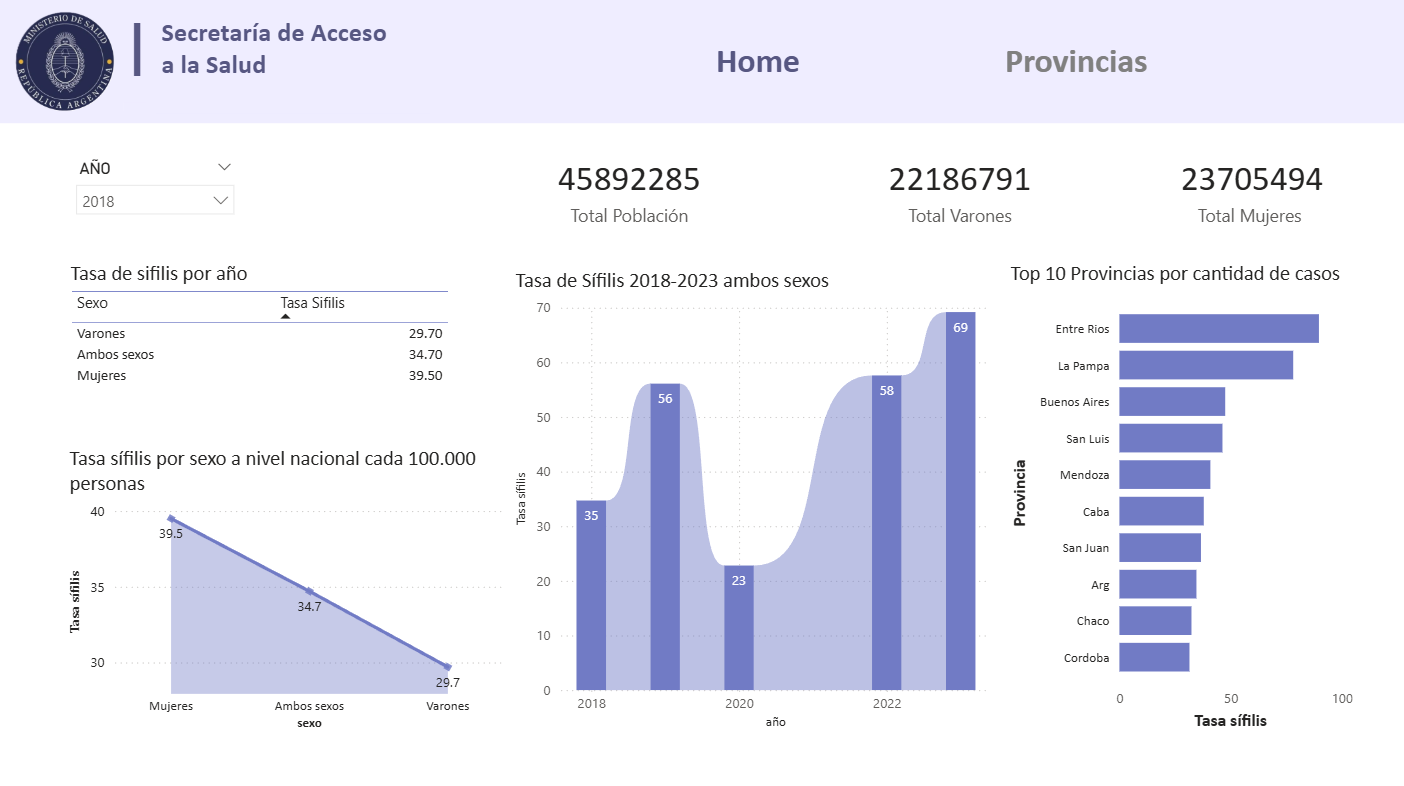

The page's visual inventory and layout, read from the dashboard file:
{"tool":"powerbi","page":{"name":"Home","canvas":[1280,720],"ordinal":1},"visuals":[{"type":"textbox","box":[-2.1,0.3,1280,112.2],"z":0},{"type":"image","box":[7.8,8.9,105.6,92.2],"z":1000},{"type":"textbox","box":[113.3,0,21.1,93.3],"z":2000},{"type":"textbox","box":[143.6,9.1,249.1,93.6],"z":3000},{"type":"tableEx","title":"Tasa de sifilis por año en Argentina","fields":{"Values":["df_consolidado_Sifilis.sexo","df_consolidado_Sifilis.jurisdiccion_tasa_sifilis"]},"box":[60.7,236,363.3,168.4],"z":4000},{"type":"card","fields":{"Values":["Cant_totalPoblacion.Todo_el_pais"]},"box":[462,120.6,224.3,101.1],"z":5000},{"type":"card","fields":{"Values":["Cant_totalPoblacion.Total Varones"]},"box":[763.4,120.6,221.7,101.1],"z":6000},{"type":"card","fields":{"Values":["Cant_totalPoblacion.Total_Mujeres"]},"box":[1028,120.9,223.7,100.8],"z":7000},{"type":"stackedAreaChart","title":"Tasa sífilis  por sexo a nivel nacional cada 100.000 personas","fields":{"Y":["Max(df_consolidado_Sifilis.jurisdiccion_tasa_sifilis)"],"Category":["df_consolidado_Sifilis.sexo"]},"box":[60.3,404.3,404.3,264.2],"z":8000},{"type":"barChart","title":"Top 10 Provincias por tasa ambos sexos","fields":{"Category":["df_consolidado_Sifilis.jurisdiccion"],"Y":["Avg(df_consolidado_Sifilis.jurisdiccion_tasa_sifilis)"]},"box":[915.7,236,321.2,432.9],"z":10000},{"type":"ribbonChart","title":"Tasa de  Argentina Sífilis 2018-2023  ambos sexos","fields":{"Category":["Hoja1.anio"],"Y":["df_consolidado_Sifilis.Medida_tasa_sifilis"]},"box":[481.7,245.2,441.7,424.3],"z":11000},{"type":"slicer","fields":{"Values":["df_consolidado_Sifilis.anio"]},"box":[61.2,140.1,164,62.1],"z":12000},{"type":"actionButton","title":"Home","box":[652.8,36.4,99.8,40.5],"z":13000},{"type":"actionButton","title":"Provincias","box":[915.8,36.4,207.7,40.5],"z":14000}]}

Visuals, with their boxes in screenshot pixels (x1, y1, x2, y2), scaled from the page's 1280x720 canvas onto the 1404x786 screenshot:
textbox: BBox(0, 0, 1402, 123)
image: BBox(9, 10, 124, 110)
textbox: BBox(124, 0, 147, 102)
textbox: BBox(158, 10, 431, 112)
"Tasa de sifilis por año en Argentina" tableEx: BBox(67, 258, 465, 441)
card - Cant_totalPoblacion.Todo_el_pais: BBox(507, 132, 753, 242)
card - Cant_totalPoblacion.Total Varones: BBox(837, 132, 1081, 242)
card - Cant_totalPoblacion.Total_Mujeres: BBox(1128, 132, 1373, 242)
"Tasa sífilis  por sexo a nivel nacional cada 100.000 personas" stackedAreaChart: BBox(66, 441, 510, 730)
"Top 10 Provincias por tasa ambos sexos" barChart: BBox(1004, 258, 1357, 730)
"Tasa de  Argentina Sífilis 2018-2023  ambos sexos" ribbonChart: BBox(528, 268, 1013, 731)
slicer - df_consolidado_Sifilis.anio: BBox(67, 153, 247, 221)
"Home" actionButton: BBox(716, 40, 826, 84)
"Provincias" actionButton: BBox(1005, 40, 1232, 84)
